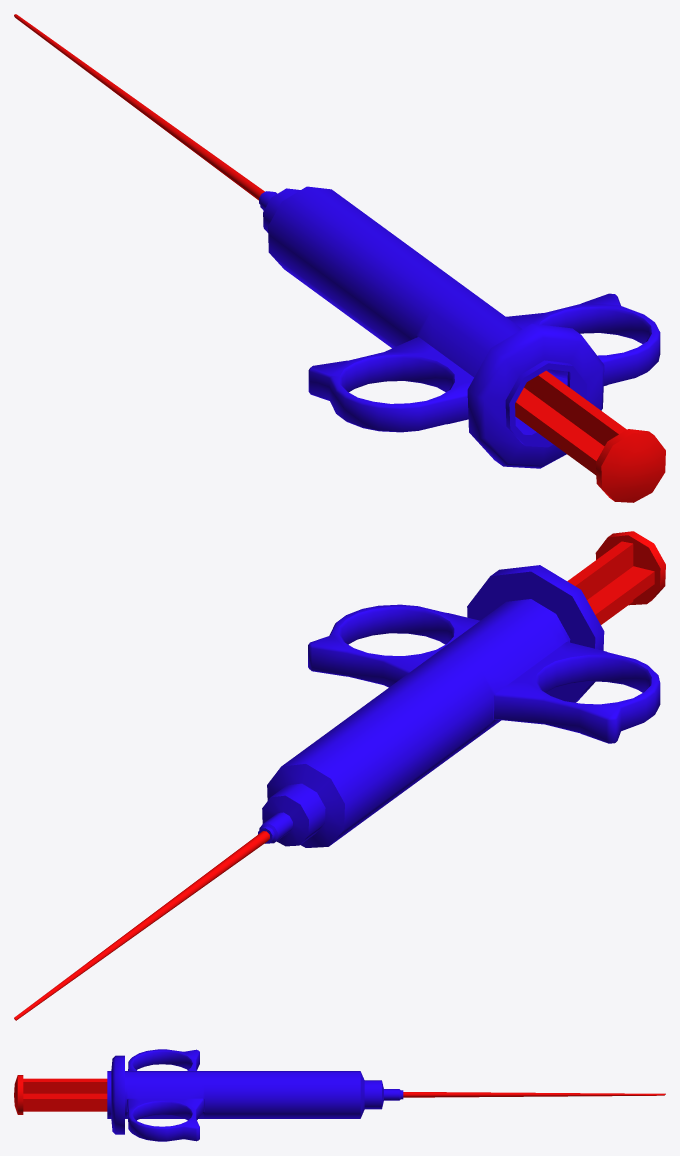
The model's file is seringue.FBX.
The picture shows the model from 3 angles, top to bottom: view 1: azimuth 30°, elevation 25°; view 2: azimuth 150°, elevation 25°; view 3: azimuth 270°, elevation 25°; orthographic projection. The views are drawn at different scales.
Visible parts, largest first — view 1: Seringue, piston; view 2: Seringue, piston; view 3: Seringue, piston.
Part boxes in pixels (x1=…): Seringue: x1=14, y1=14, x2=660, y2=468; piston: x1=515, y1=370, x2=665, y2=502; Seringue: x1=14, y1=565, x2=660, y2=1020; piston: x1=567, y1=531, x2=665, y2=624; Seringue: x1=107, y1=1049, x2=665, y2=1141; piston: x1=14, y1=1075, x2=107, y2=1114.
Bounding box in the file's own units: 3.02 × 1.29 × 10.48.
